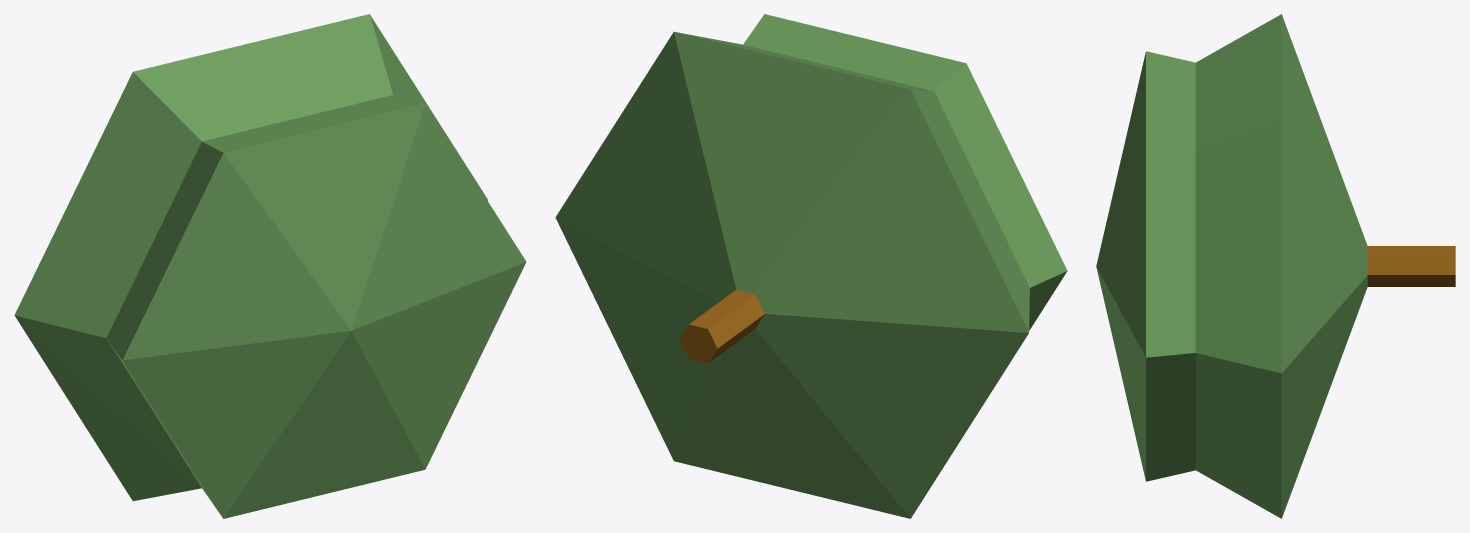
The model's file is tree1.obj.
The picture shows the model from 3 angles, left to right: view 1: azimuth 30°, elevation 25°; view 2: azimuth 150°, elevation 25°; view 3: azimuth 270°, elevation 25°; orthographic projection. The views are drawn at different scales.
Bounding box in the file's own units: 29.12 × 25.23 × 20.66.
